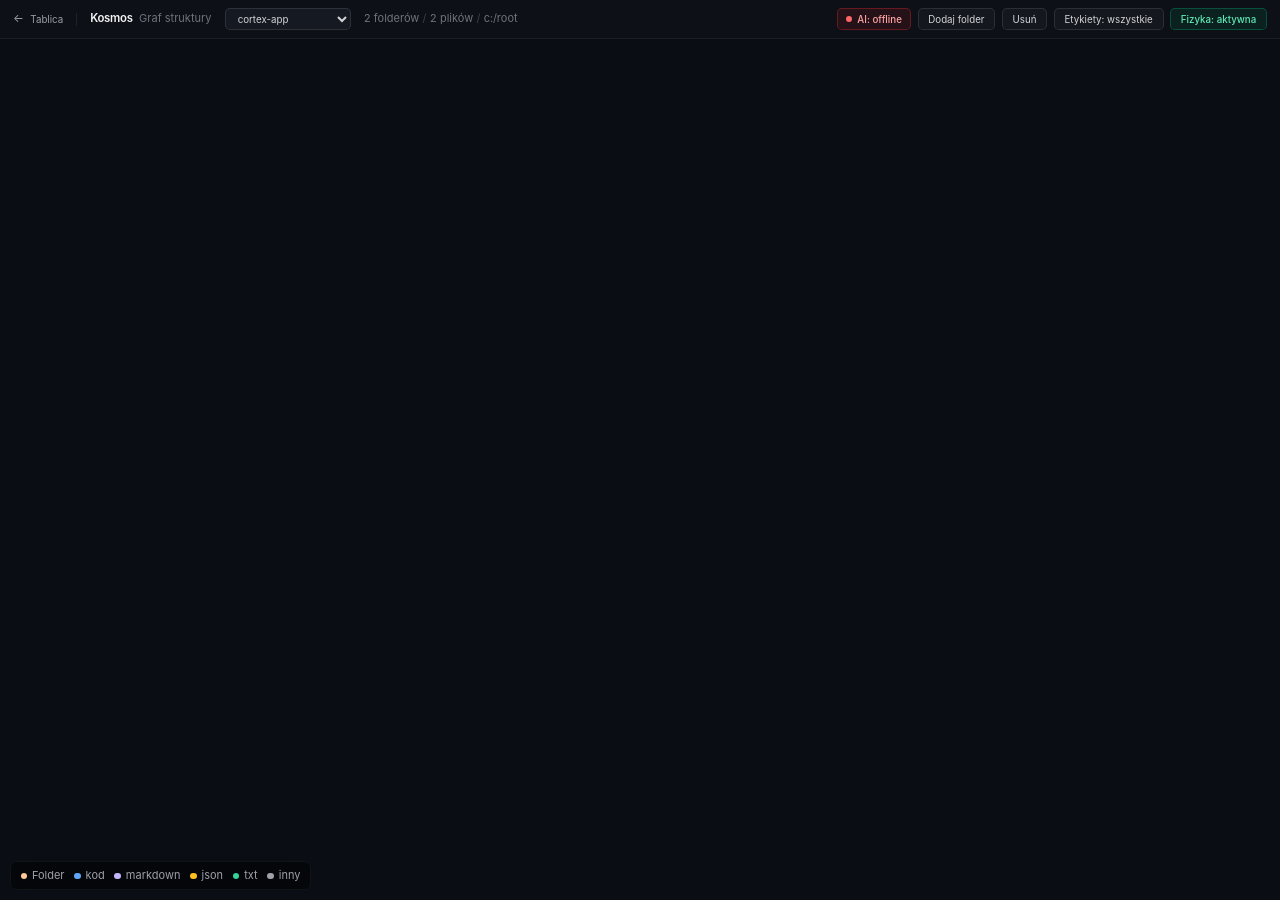
Test: KosmosView — graf siłowy zasilany bazą SQLite › przy wyłączonej fizyce rozszerzenie folderu daje fizykę WYŁĄCZNIE jego dzieciom, pozostawiając resztę galaktyki zamrożoną
# Wyłącz fizykę (pauza)
Click the button "Fizyka: aktywna" at (1218, 19), box [1170, 8, 1267, 30]
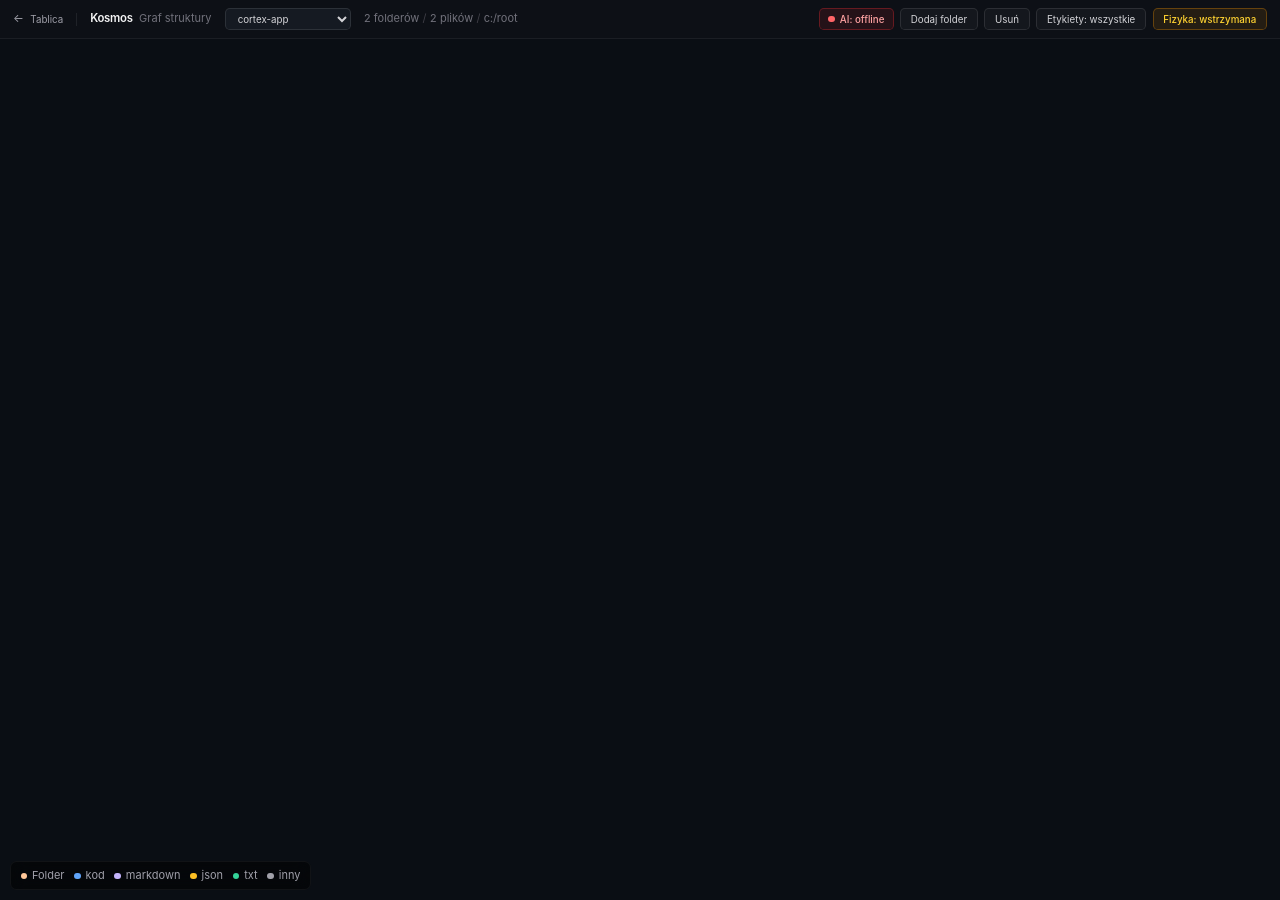
Result: the button "Fizyka: wstrzymana" is shown at [1153, 8, 1267, 30]
